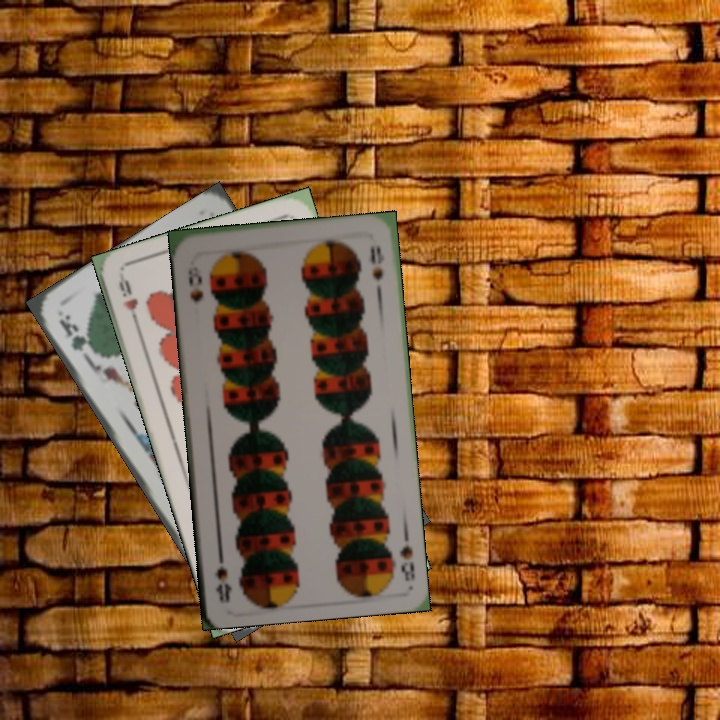GK: (55, 310, 97, 358)
H9: (114, 272, 143, 330)
S8: (396, 540, 418, 584), (184, 264, 206, 305)
